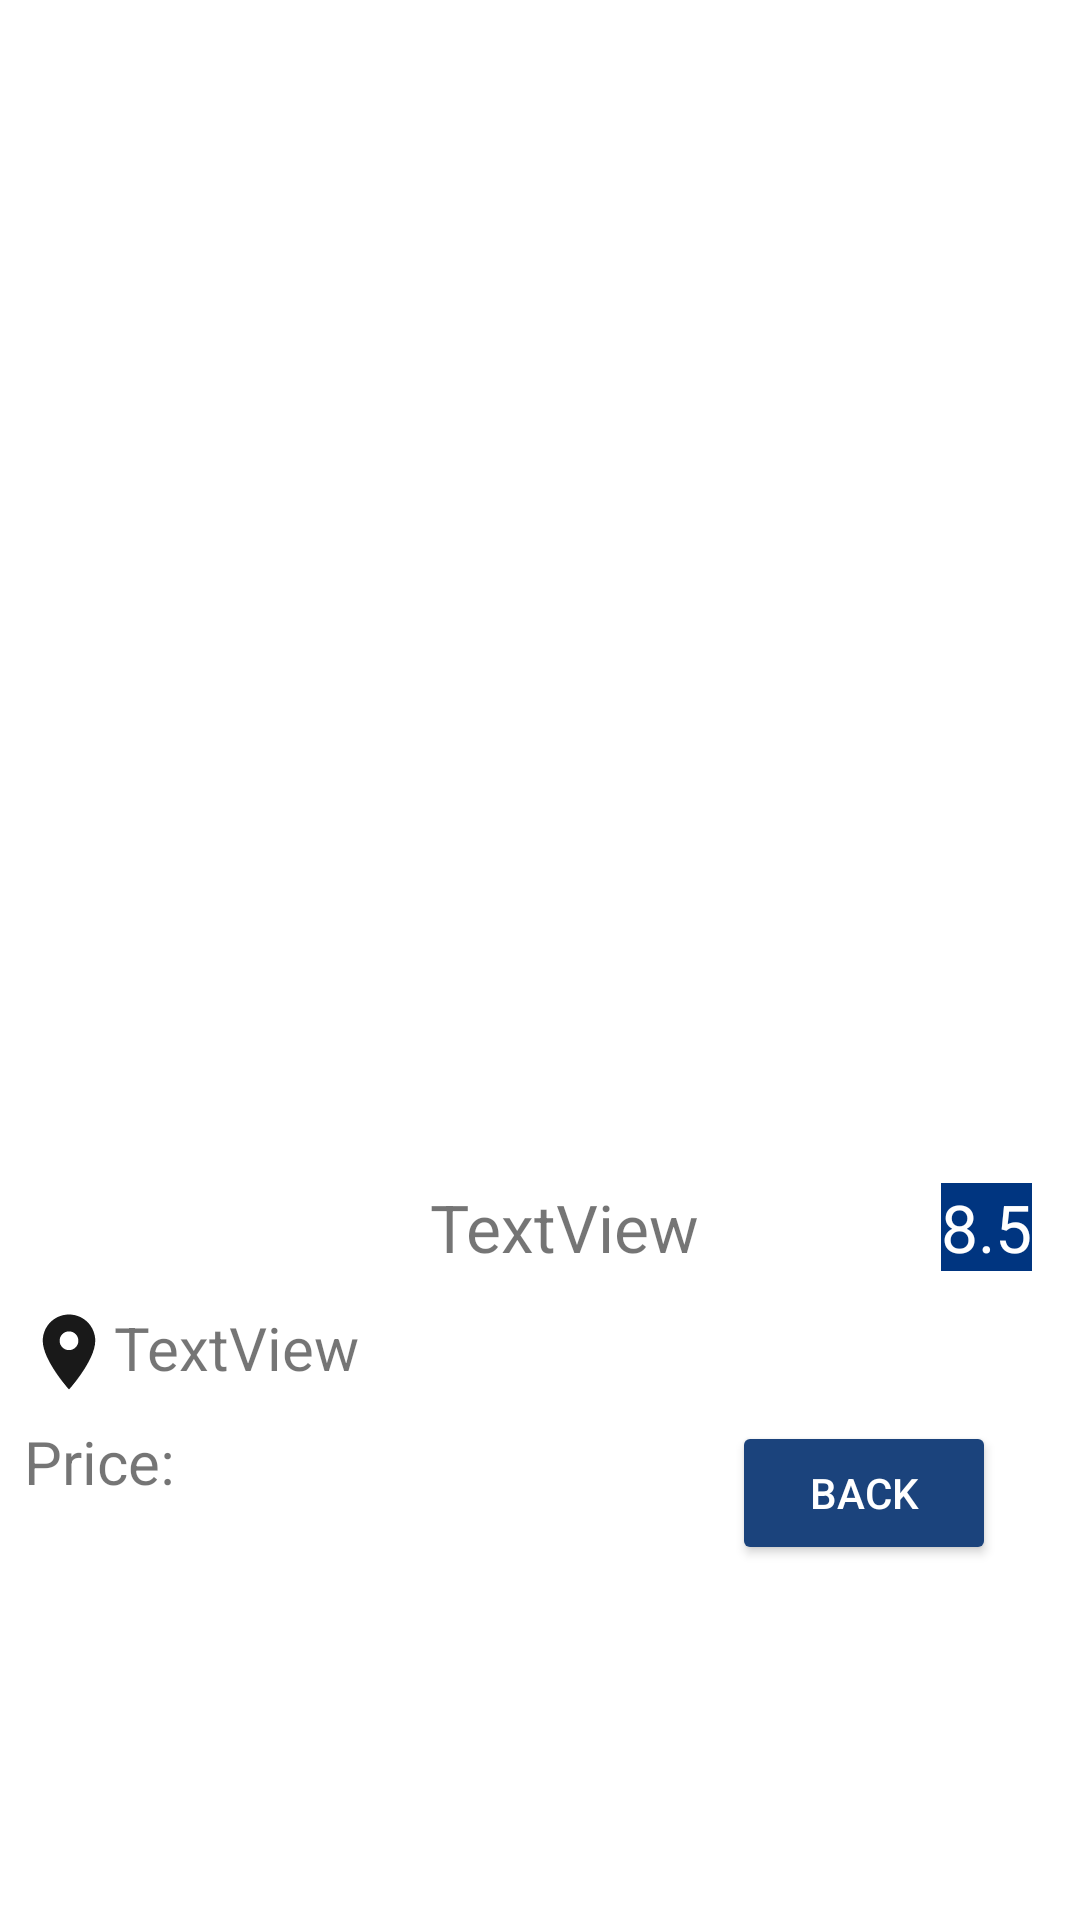

Screen size 1080px x 1920px. Icon name, then its box in pixels as bbox=[x1, y1, x2, y2]:
location: bbox=[42, 1314, 96, 1389]
